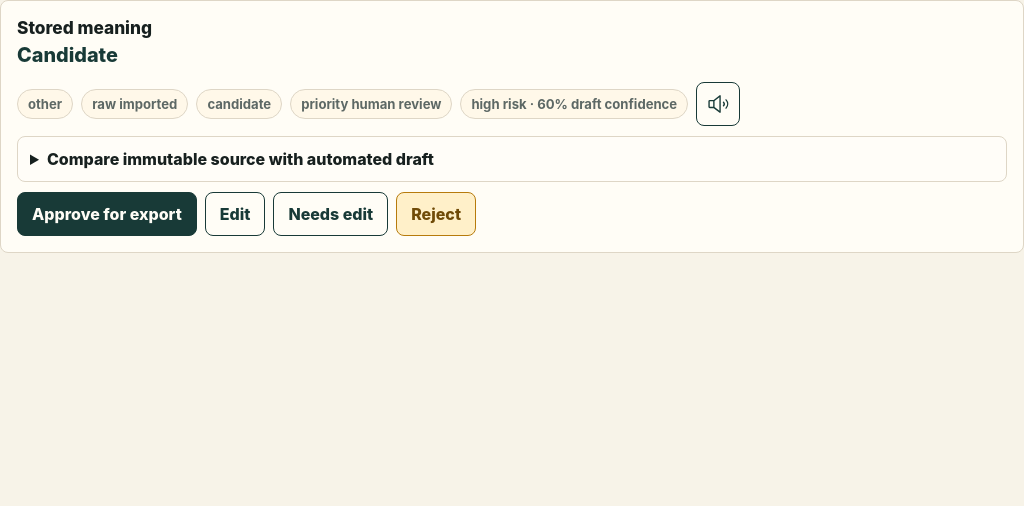
Test case: keeps a failed edit open and preserves stored content until a successful retry
Click the button "Edit" at (235, 214), box [205,192,265,236]
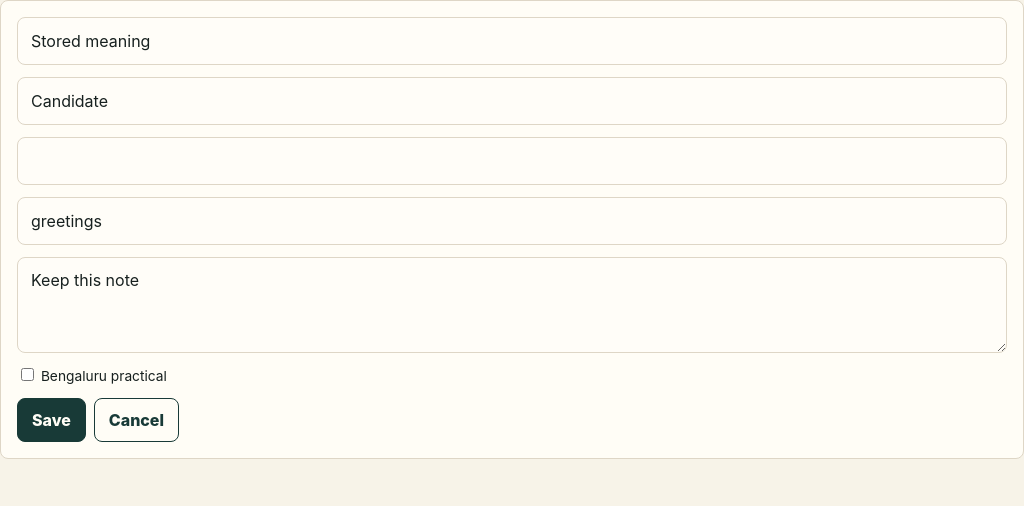
Replace the text in the field named "English meaning" with "Retry meaning" at (512, 41), box [17,17,1007,65]
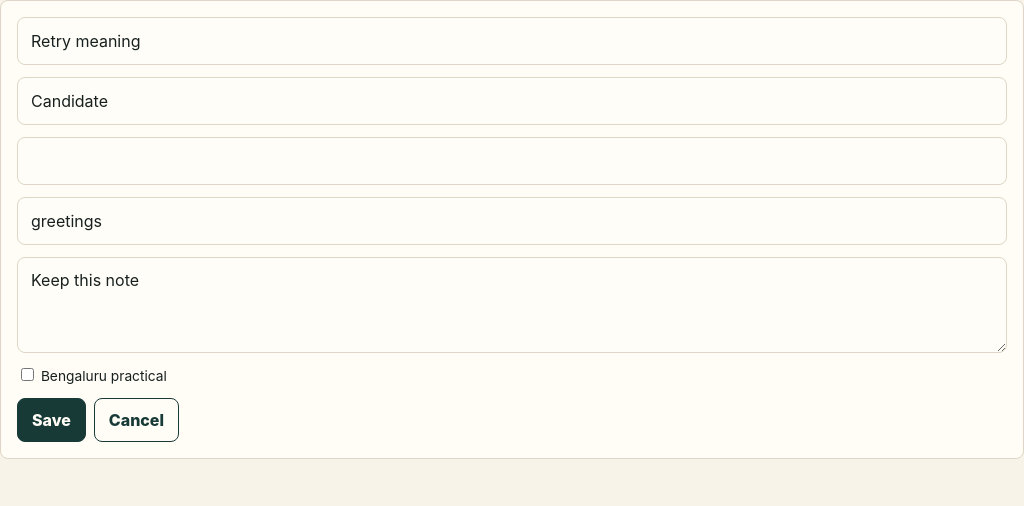
Click the button "Save" at (51, 420), box [17,398,86,442]
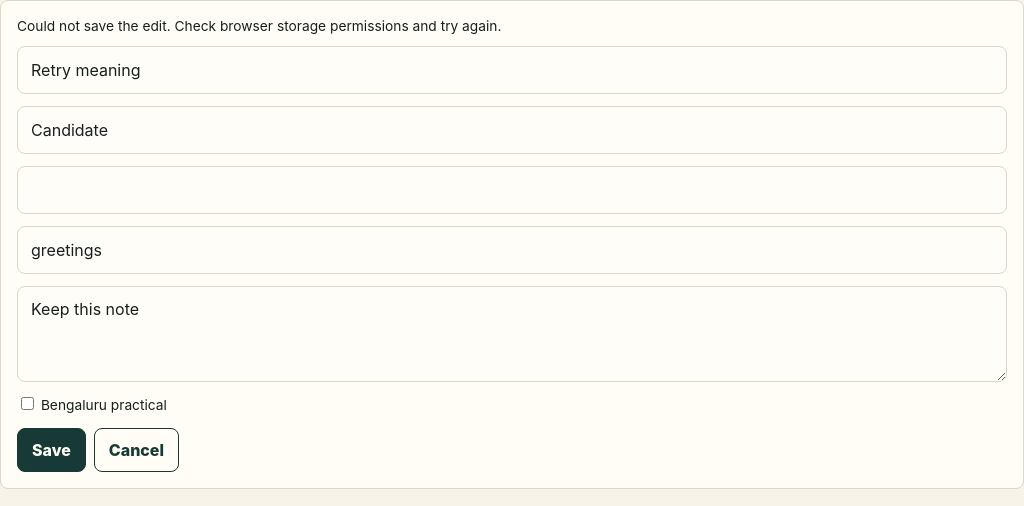
Expected: the message shows "Could not save the edit", [17,18,501,34]
Click the button "Save" at (51, 450), box [17,428,86,472]
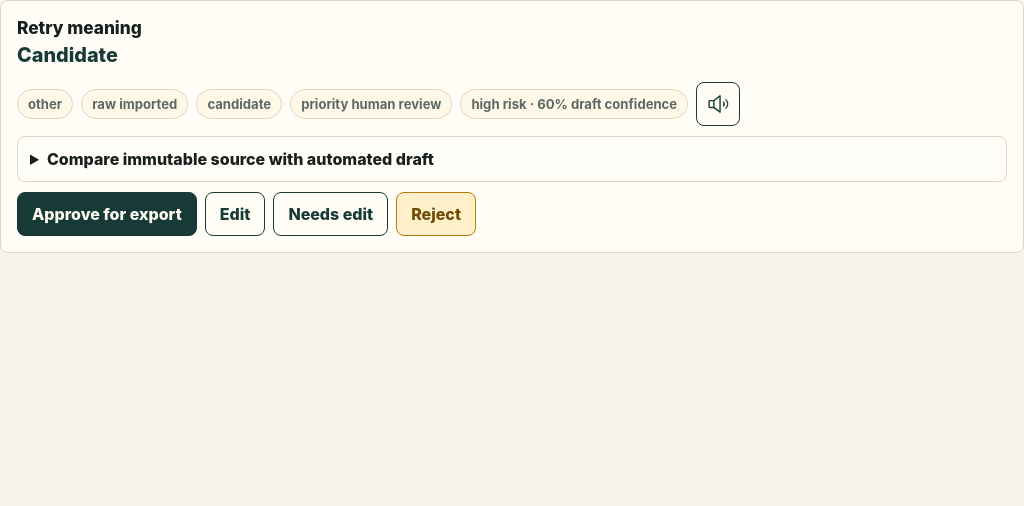
Expected: the message "Could not save the edit. Check browser storage permissions and try again." is gone
Expected: the text "Retry meaning" is shown, [17,17,142,38]
